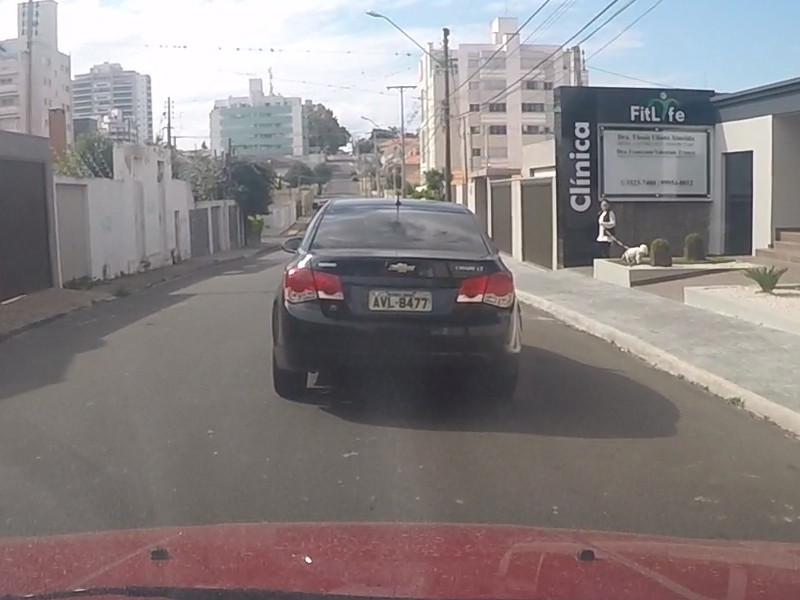placa: (368, 290, 433, 311)
